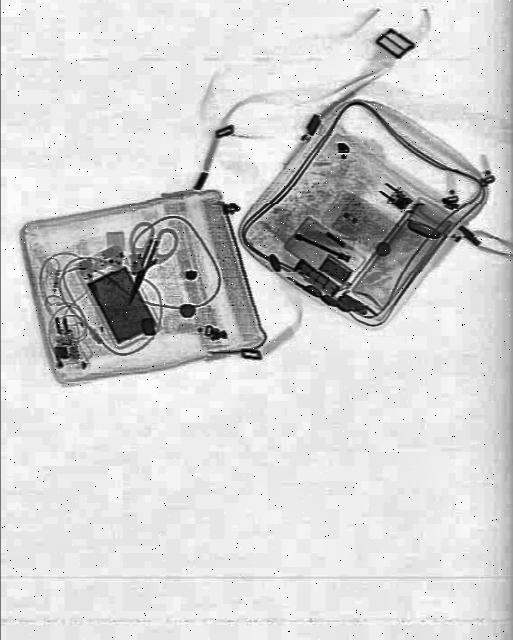Knife: (122, 236, 163, 308)
